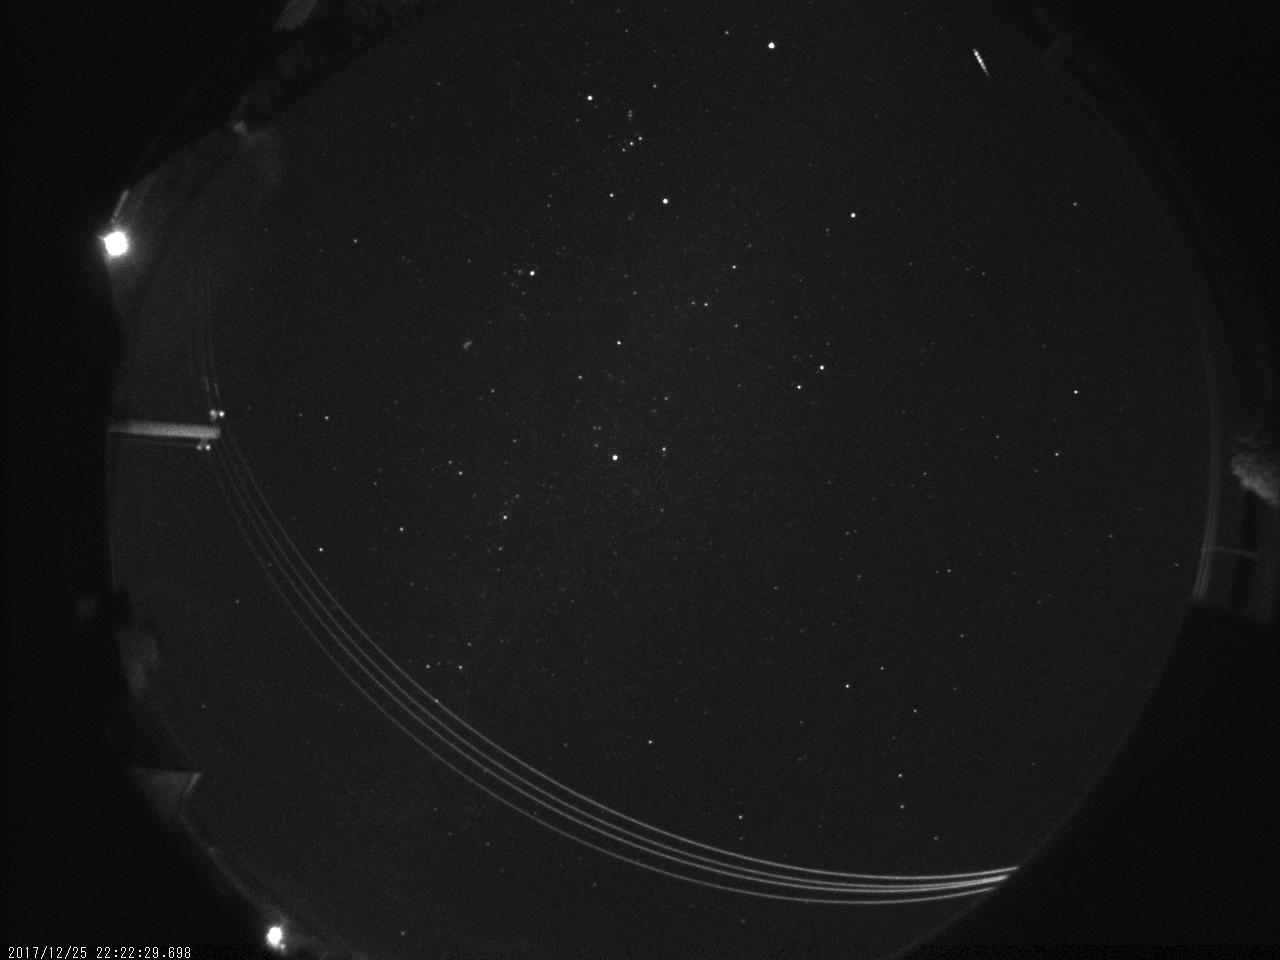meteor: (968, 45, 992, 80)
